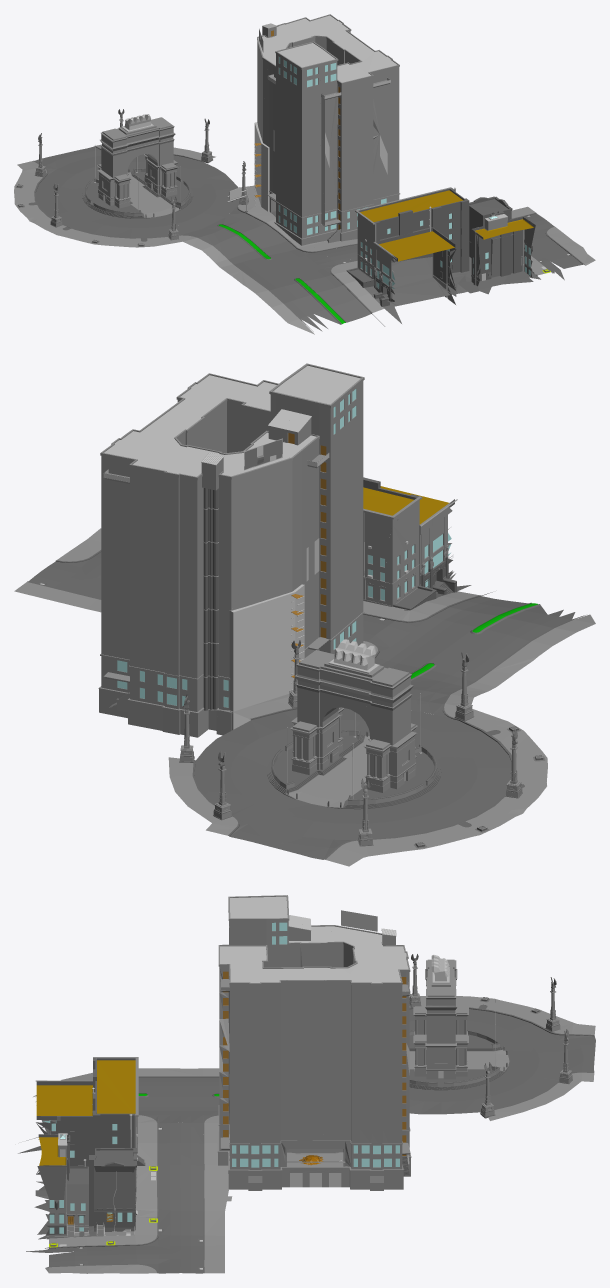
The model's file is brook_s2_8.FBX.
The picture shows the model from 3 angles, top to bottom: view 1: azimuth 30°, elevation 25°; view 2: azimuth 150°, elevation 25°; view 3: azimuth 270°, elevation 25°; orthographic projection. The views are drawn at different scales.
Visible parts, largest first — view 1: unnamed, null; view 2: unnamed, null; view 3: null, unnamed.
Boxes of the visible parts, x1,y1,x2,y2 form: unnamed: (14,14,401,334); null: (278,30,595,307); unnamed: (98,363,595,866); null: (14,363,453,643); null: (26,897,350,1273); unnamed: (18,895,595,1190).
Size of the model in its own units: 161 by 74.32 by 158.
